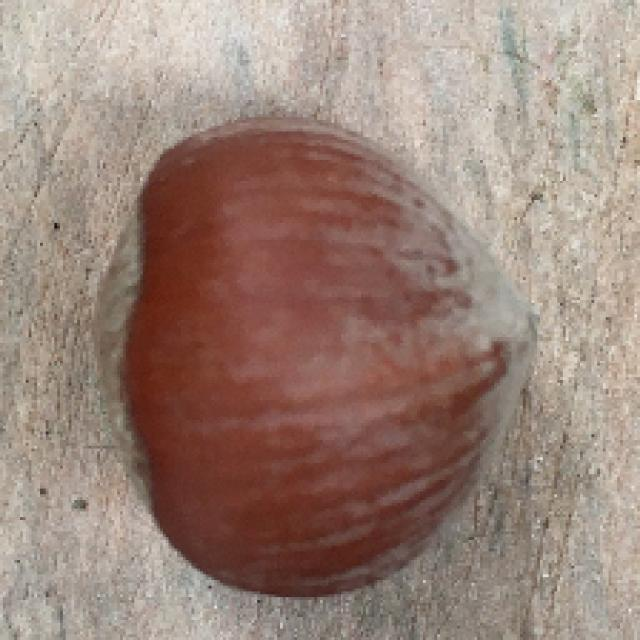qualityHazelnut: (98, 112, 554, 605)
